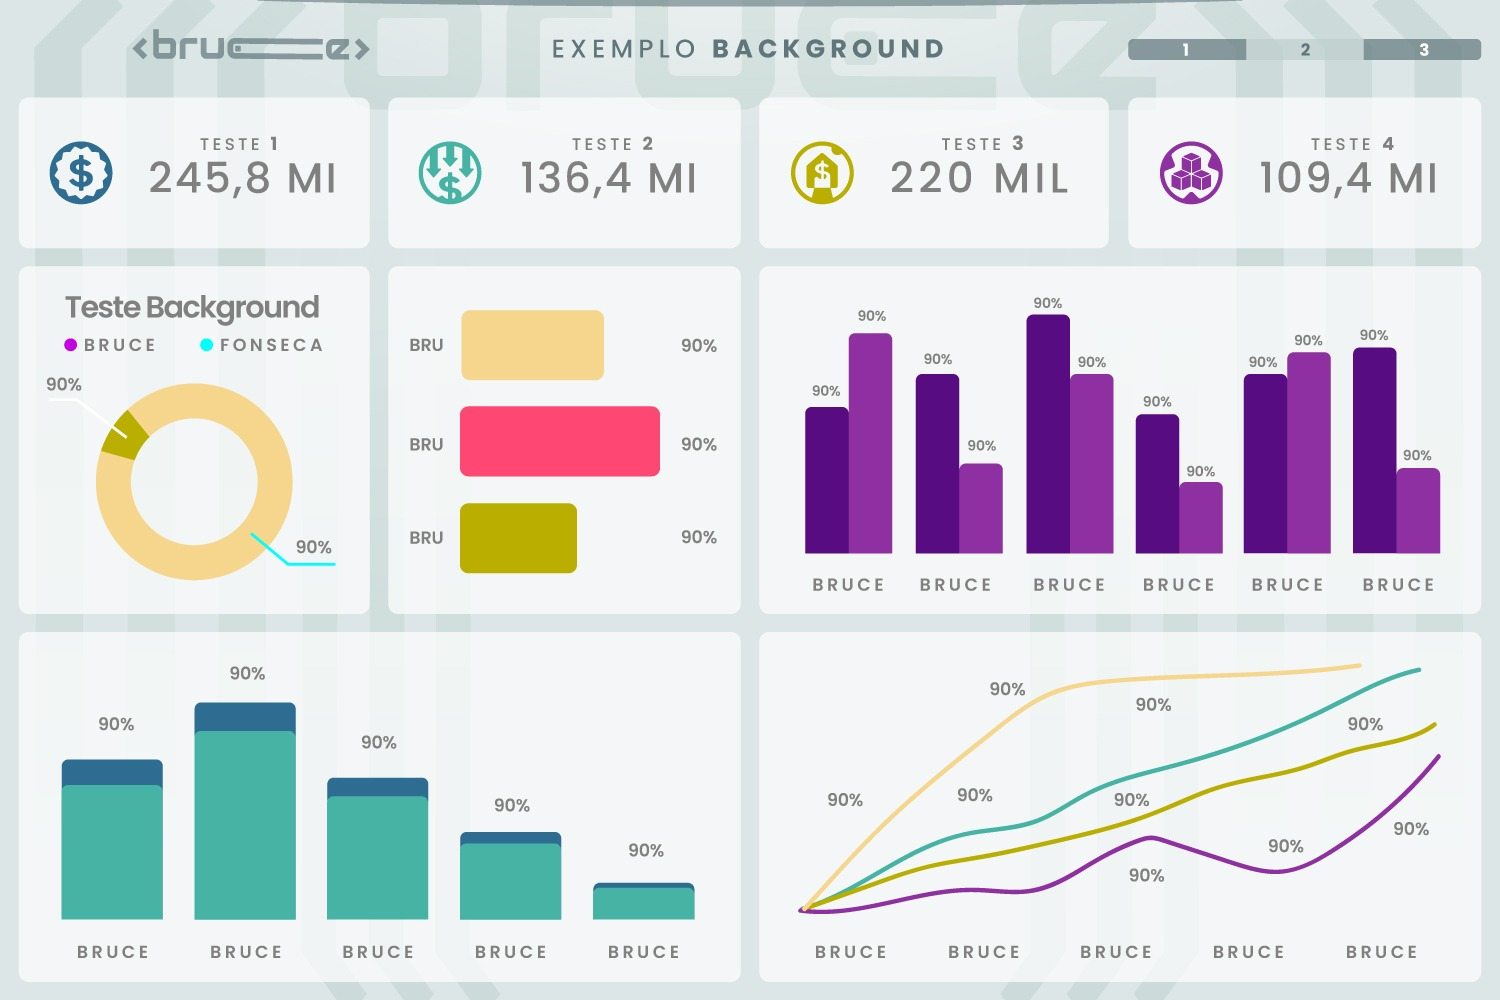

The page's visual inventory and layout, read from the dashboard file:
{"tool":"powerbi","page":{"name":"Clientes AdventureWorks","canvas":[1280,720],"ordinal":0},"visuals":[{"type":"slicer","fields":{"Values":["DimDate.CalendarYear"]},"box":[1047.3,13.6,232.7,36.4],"z":0},{"type":"clusteredColumnChart","title":"Receita de Vendas por tipo de cliente","fields":{"Category":["DimGeography.EnglishCountryRegionName"],"Y":["#Measures.Vendas Clientes Novos","#Measures.Vendas Clientes Recorrentes"]},"box":[748.2,199.1,520.9,247.3],"z":1000},{"type":"card","title":"Clientes Novos","fields":{"Values":["#Measures.Clientes Novos"]},"box":[1011.8,63.6,257.3,125.5],"z":2000},{"type":"card","title":"Clientes Total","fields":{"Values":["#Measures.Clientes"]},"box":[748.2,63.6,249.1,125.5],"z":3000},{"type":"card","fields":{"Values":["#Measures.Clientes Novos LY Delta % txt"]},"box":[1062.3,149,159.6,39.9],"z":4000},{"type":"card","fields":{"Values":["#Measures.Clientes LY Delta % txt"]},"box":[799.8,149,162.3,39.9],"z":5000},{"type":"donutChart","title":"Clientes Novos e Recorrentes","fields":{"Y":["#Measures.Clientes Novos","#Measures.Clientes - novos"]},"box":[9.1,63.6,333.6,326.4],"z":6000},{"type":"clusteredBarChart","title":"TOP 3 países com Novos Clientes","fields":{"Y":["#Measures.Clientes Novos"],"Category":["DimGeography.EnglishCountryRegionName"]},"box":[353.6,63.6,384.5,326.4],"z":7000},{"type":"columnChart","title":"Origem das Receitas / Vendas","fields":{"Category":["DimDate.YearMonthDesc"],"Y":["#Measures.Vendas Clientes Novos","#Measures.Vendas Clientes Recorrentes"]},"box":[8.9,400.8,729.8,307.7],"z":8000},{"type":"lineChart","title":"Clientes por período","fields":{"Category":["DimDate.YearMonthDesc"],"Y":["#Measures.Clientes Novos","#Measures.Clientes Recorrentes"]},"box":[749.1,455.5,520,253.6],"z":9000},{"type":"textbox","box":[343.6,0,653.6,63.6],"z":10000},{"type":"image","box":[749.1,138.2,50.9,50],"z":11000},{"type":"image","box":[1011.8,137.3,50.9,50.9],"z":12000},{"type":"image","box":[8.9,7.1,47,49.7],"z":13000},{"type":"actionButton","box":[0,0,63,63.8],"z":14000}]}

Visuals, with their boxes on the page's 1280x720 design canvas (x1, y1, x2, y2). These are canvas units, not pixel positions in the 1500x1000 screenshot, which may show the page scaled, cropped or inside an application window:
slicer - DimDate.CalendarYear: <box>1047,14,1280,50</box>
"Receita de Vendas por tipo de cliente" clusteredColumnChart: <box>748,199,1269,446</box>
"Clientes Novos" card: <box>1012,64,1269,189</box>
"Clientes Total" card: <box>748,64,997,189</box>
card - #Measures.Clientes Novos LY Delta % txt: <box>1062,149,1222,189</box>
card - #Measures.Clientes LY Delta % txt: <box>800,149,962,189</box>
"Clientes Novos e Recorrentes" donutChart: <box>9,64,343,390</box>
"TOP 3 países com Novos Clientes" clusteredBarChart: <box>354,64,738,390</box>
"Origem das Receitas / Vendas" columnChart: <box>9,401,739,708</box>
"Clientes por período" lineChart: <box>749,456,1269,709</box>
textbox: <box>344,0,997,64</box>
image: <box>749,138,800,188</box>
image: <box>1012,137,1063,188</box>
image: <box>9,7,56,57</box>
actionButton: <box>0,0,63,64</box>
